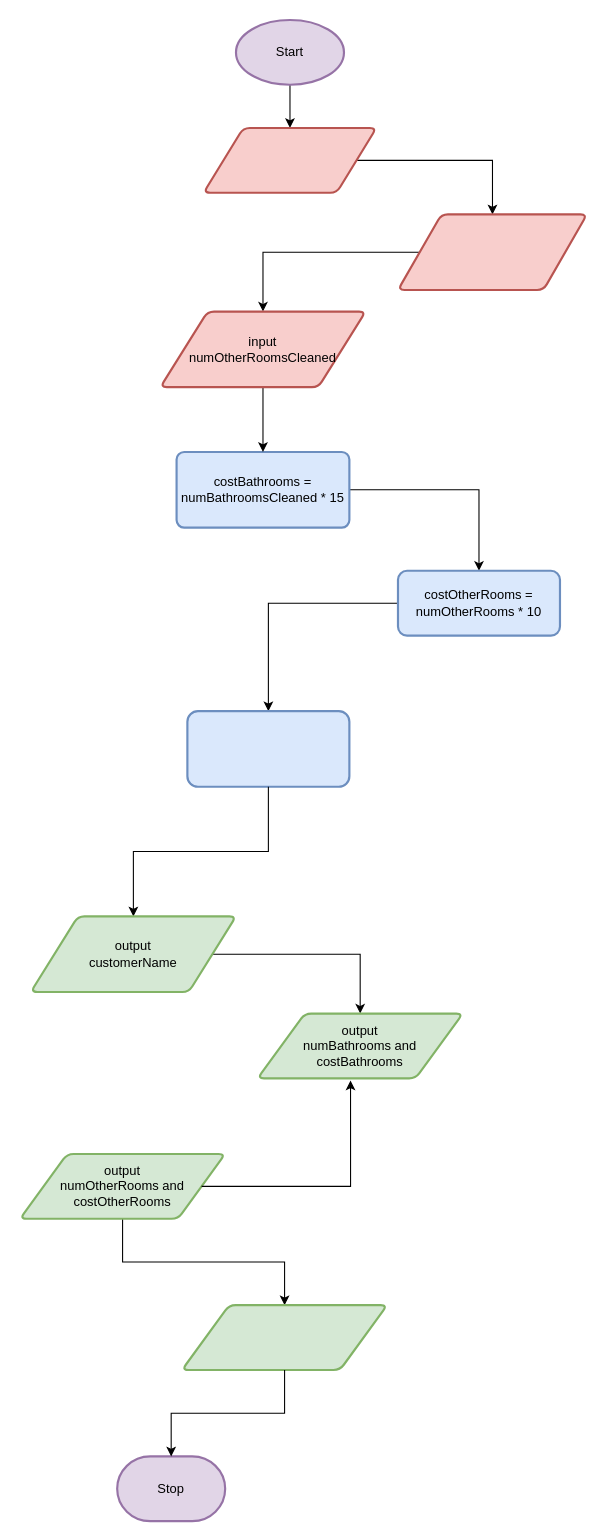
Some shapes in this 606 by 1540 pixel diagram are drawn without their labels. The centre of each missing label's shape, as x and y in pixels:
"input CustomerName" goes at [289,159].
"input numBathroomsCleaned" goes at [492,252].
"output totalCost" goes at [284,1337].
"totalCost = 40 + costBathrooms + costOtherRooms" goes at [268,748].
